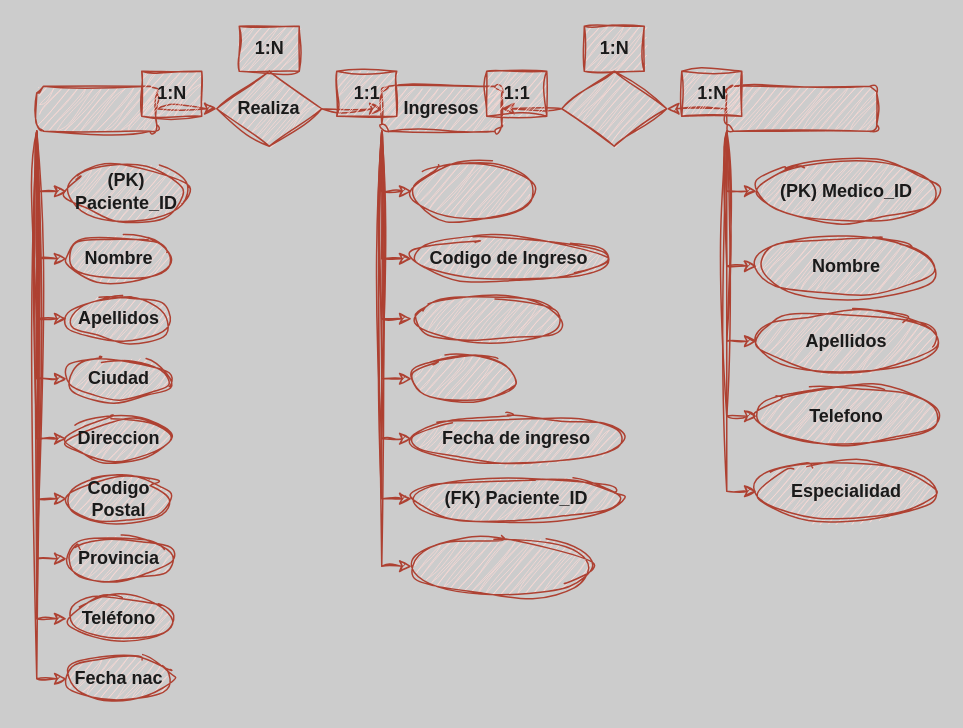
This 963x728 diagram has some shape labels left out. Each missing label, with the centre of its shape:
"(FK) Medico_ID" goes at point 501,565.
"(PK) Ingreso_ID" goes at point 471,190.
"Atiende" goes at point 613,108.
"Cama" goes at point 463,378.
"Habitacion" goes at point 486,318.
"Medico" goes at point 801,108.
"Paciente" goes at point 96,108.
